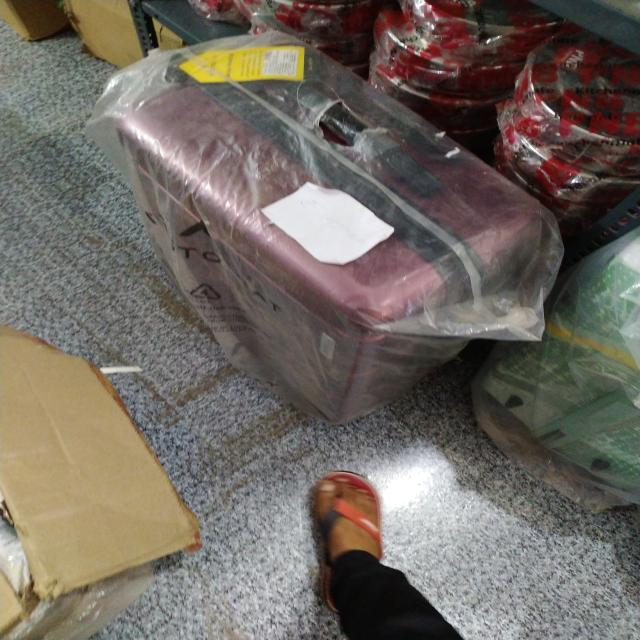suitcaserotation: (103, 26, 550, 429)
